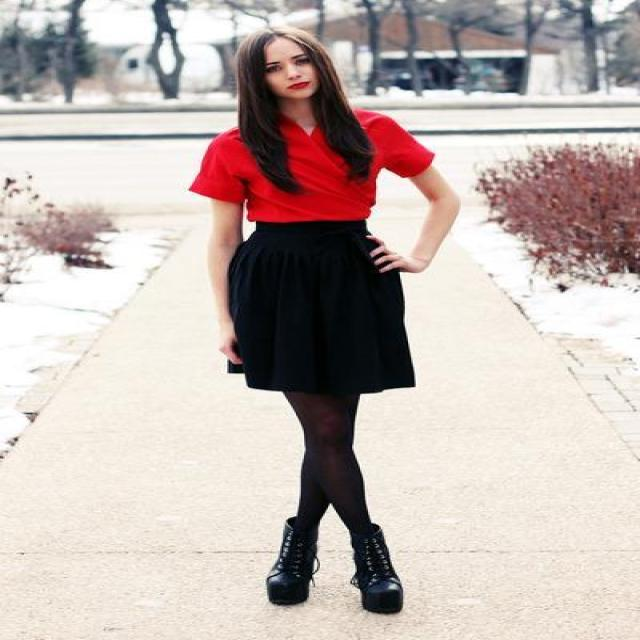shirt: (188, 111, 434, 222)
shoe: (266, 508, 402, 614)
skirt: (226, 220, 414, 393)
